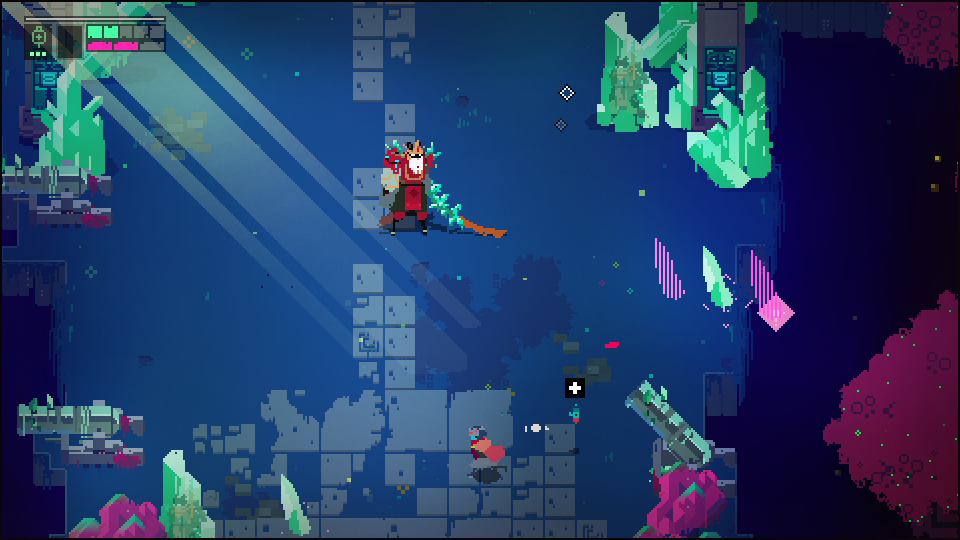hanged_man: (379, 141, 460, 236)
player: (468, 424, 506, 471)
